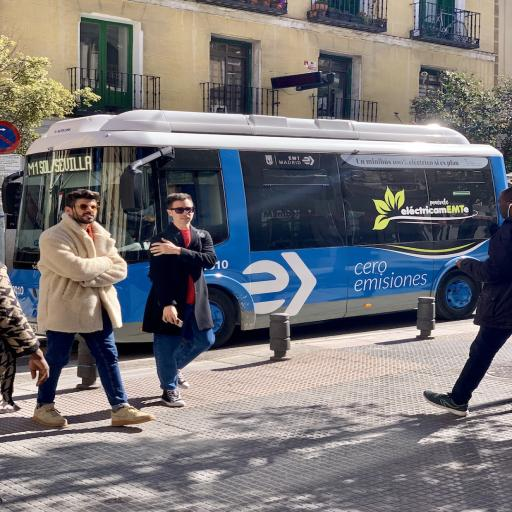person: (33, 189, 154, 426), (33, 189, 127, 426), (424, 188, 511, 416), (143, 193, 216, 406), (0, 266, 49, 412)
